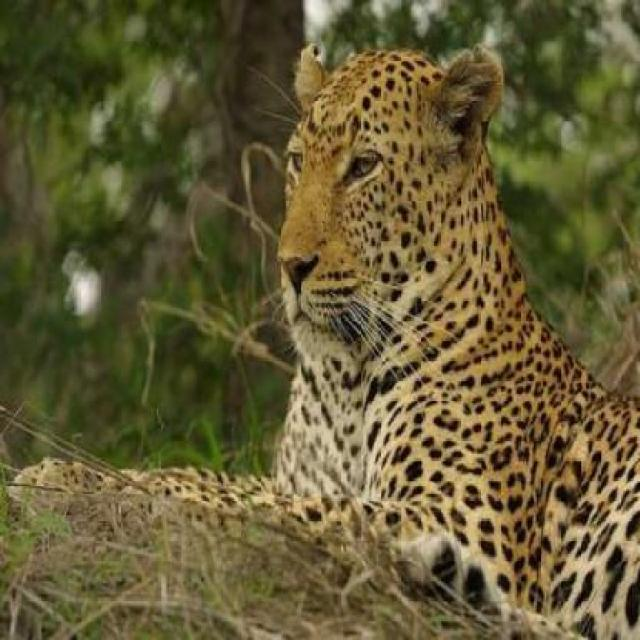Leopard: (236, 0, 638, 620)
